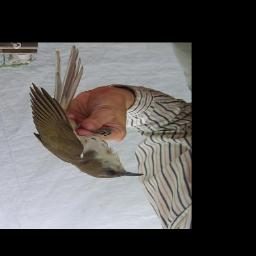Cuckoo: (30, 48, 145, 180)
